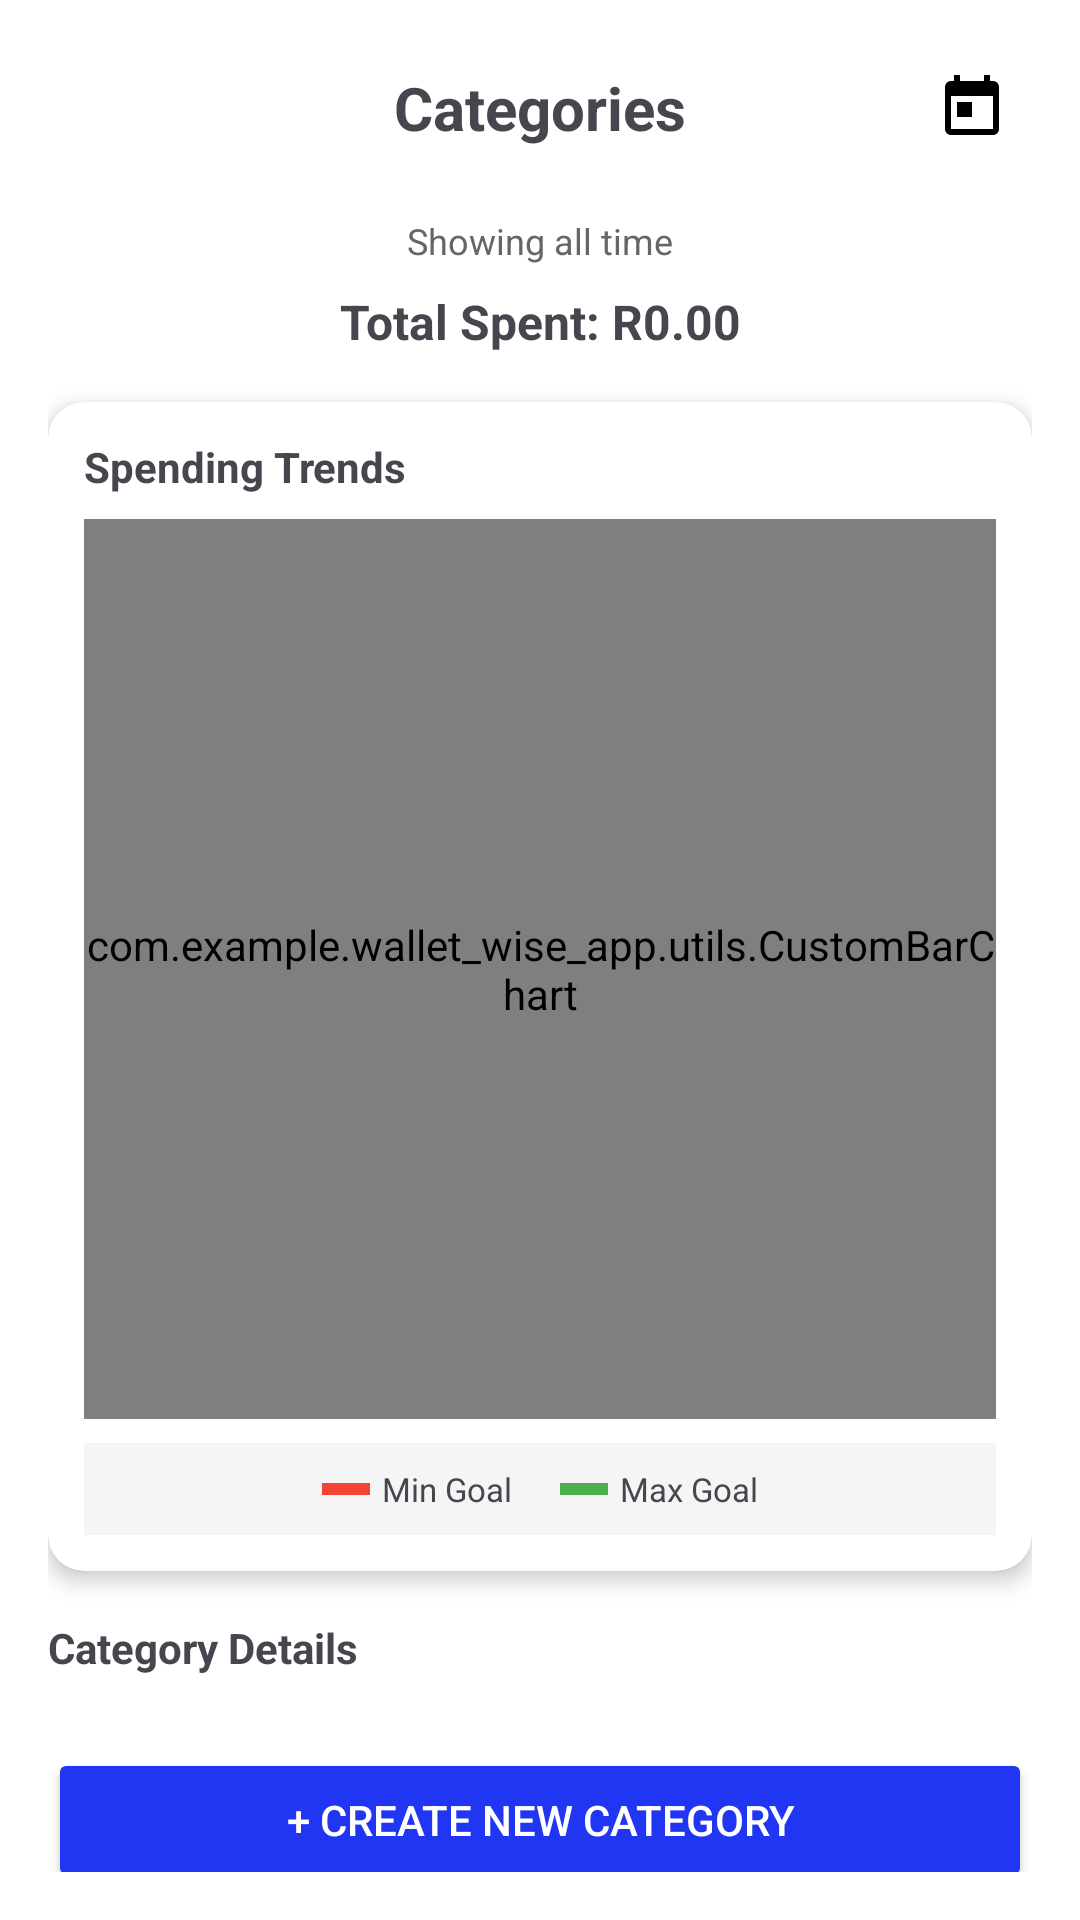

Icons on this 1080x1920 Android screen, each with its box as (x1, y1, x2, y2):
calendar: (945, 75, 999, 135)
